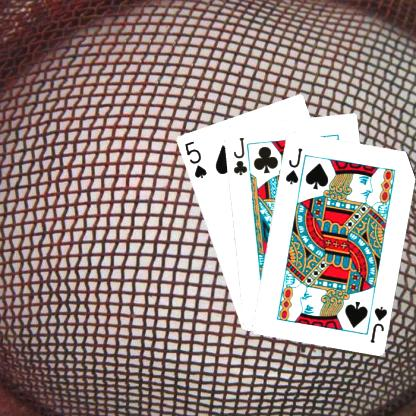5S: (181, 138, 208, 179)
JC: (230, 134, 248, 176)
JS: (282, 145, 303, 185), (367, 304, 388, 344)
